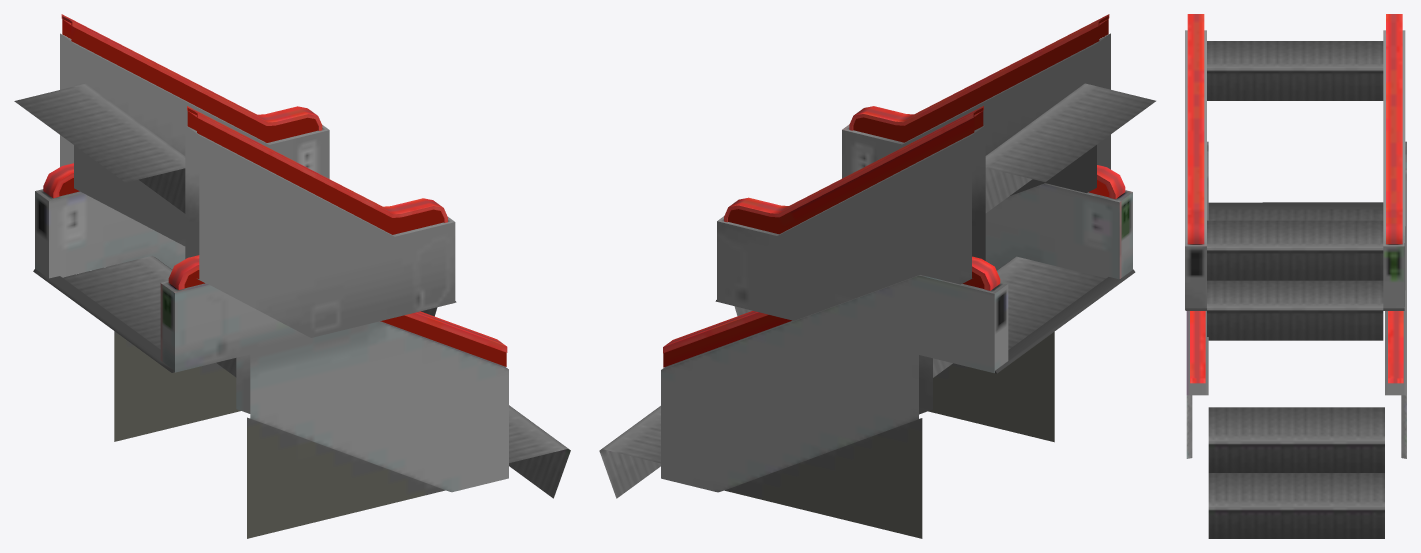
File: animated_escalators.glb
The picture shows the model from 3 angles, left to right: view 1: azimuth 30°, elevation 25°; view 2: azimuth 150°, elevation 25°; view 3: azimuth 270°, elevation 25°; orthographic projection. The views are drawn at different scales.
Parts seen in each view (by area): view 1: animated_escalator_down_body, animated_escalator_up_body; view 2: animated_escalator_down_body, animated_escalator_up_body; view 3: animated_escalator_up_body, anim_steps (×2), animated_escalator_down_body.
Part boxes in pixels (x1=…): animated_escalator_down_body: x1=33, y1=163, x2=570, y2=538; animated_escalator_up_body: x1=14, y1=14, x2=456, y2=337; animated_escalator_down_body: x1=599, y1=165, x2=1135, y2=538; animated_escalator_up_body: x1=715, y1=14, x2=1155, y2=320; animated_escalator_up_body: x1=1185, y1=14, x2=1405, y2=340; anim_steps (×2): x1=1207, y1=220, x2=1384, y2=472; animated_escalator_down_body: x1=1186, y1=141, x2=1406, y2=538.
Bounding box in the file's own units: 3.7 × 3.84 × 2.02.
Materials: 2 (2 with a texture image).
